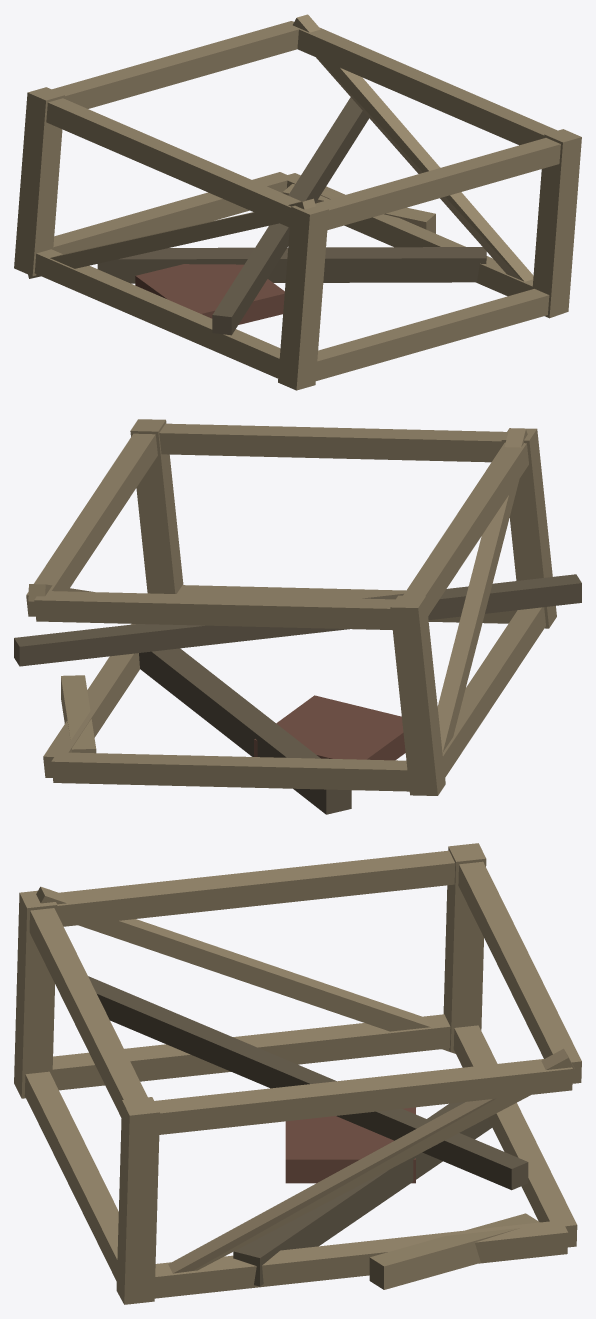
Rendered from ancient_crane_column_2.obj.
The picture shows the model from 3 angles, top to bottom: view 1: azimuth 30°, elevation 25°; view 2: azimuth 150°, elevation 25°; view 3: azimuth 270°, elevation 25°; orthographic projection. The views are drawn at different scales.
Visible parts, largest first — view 1: ancient_crane_column_2; view 2: ancient_crane_column_2; view 3: ancient_crane_column_2.
Boxes of the visible parts, <box> form: ancient_crane_column_2: <box>14,14,581,390</box>; ancient_crane_column_2: <box>14,419,581,814</box>; ancient_crane_column_2: <box>14,843,581,1304</box>.
Bounding box in the file's own units: 2.19 × 1.04 × 2.18.
